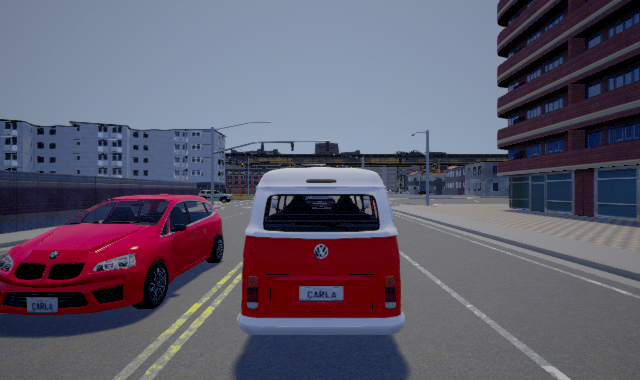vehicle: (237, 167, 405, 335), (1, 194, 224, 315), (198, 189, 233, 203)
